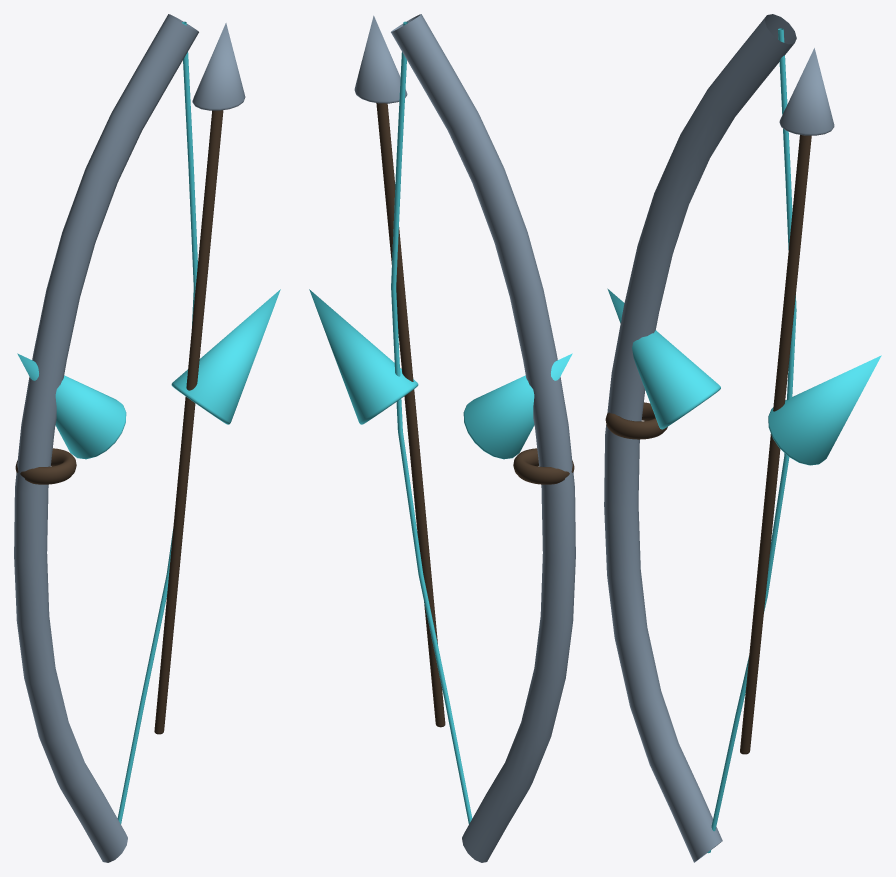
File: bow_v4.glb
3 renders of one model, left to right at view 1: azimuth 30°, elevation 25°; view 2: azimuth 150°, elevation 25°; view 3: azimuth 330°, elevation 25°, orthographic. The views are drawn at different scales.
Visible parts, largest first — view 1: BOW_BODY_PRIMARY, ARROW_SECONDARY, SWEPT_FIN_ACCENT.001, SWEPT_FIN_ACCENT, BOW_STRING_ACCENT, ARROW_HEAD_PRIMARY, BOW_GRIP_SECONDARY; view 2: BOW_BODY_PRIMARY, ARROW_SECONDARY, SWEPT_FIN_ACCENT.001, SWEPT_FIN_ACCENT, BOW_STRING_ACCENT, ARROW_HEAD_PRIMARY, BOW_GRIP_SECONDARY; view 3: BOW_BODY_PRIMARY, ARROW_SECONDARY, SWEPT_FIN_ACCENT.001, SWEPT_FIN_ACCENT, BOW_STRING_ACCENT, ARROW_HEAD_PRIMARY, BOW_GRIP_SECONDARY.
Boxes of the visible parts, x1,y1,x2,y2 form: BOW_BODY_PRIMARY: (14,14,198,862); ARROW_SECONDARY: (154,110,223,734); SWEPT_FIN_ACCENT.001: (171,289,280,424); SWEPT_FIN_ACCENT: (17,353,126,459); BOW_STRING_ACCENT: (117,21,197,824); ARROW_HEAD_PRIMARY: (192,23,245,110); BOW_GRIP_SECONDARY: (15,448,76,484); BOW_BODY_PRIMARY: (391,14,575,862); ARROW_SECONDARY: (376,103,445,727); SWEPT_FIN_ACCENT.001: (309,289,418,424); SWEPT_FIN_ACCENT: (463,353,572,459); BOW_STRING_ACCENT: (391,21,472,824); ARROW_HEAD_PRIMARY: (354,15,407,103); BOW_GRIP_SECONDARY: (513,448,574,484); BOW_BODY_PRIMARY: (604,14,796,862); ARROW_SECONDARY: (740,135,811,754); SWEPT_FIN_ACCENT.001: (768,355,881,465); SWEPT_FIN_ACCENT: (607,288,720,429); BOW_STRING_ACCENT: (707,28,796,853); ARROW_HEAD_PRIMARY: (779,48,834,135); BOW_GRIP_SECONDARY: (605,402,667,439).
Size of the model in its own units: 1.33 by 3.99 by 0.312.
